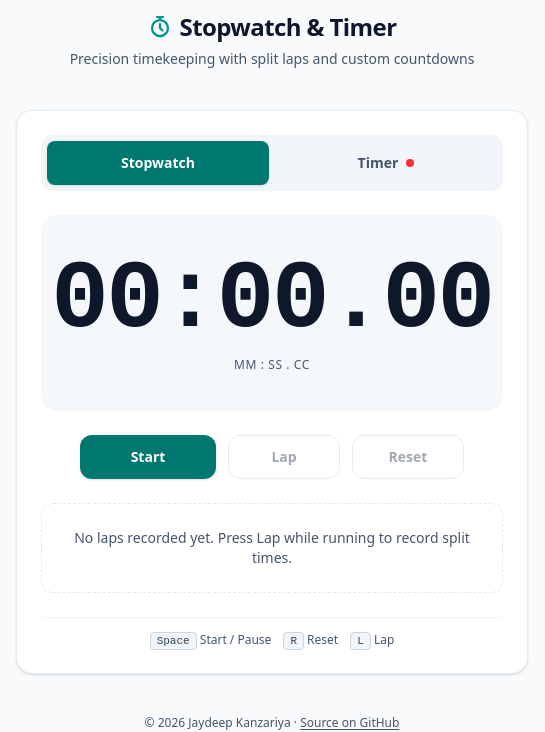
Test: surviving a page reload › shows Time's up, without a beep, if the timer ran out while away
The image size is (545, 732).
Click the tab "Timer".
click(386, 163)  # box [275, 141, 497, 185]
Wait 5000 ms
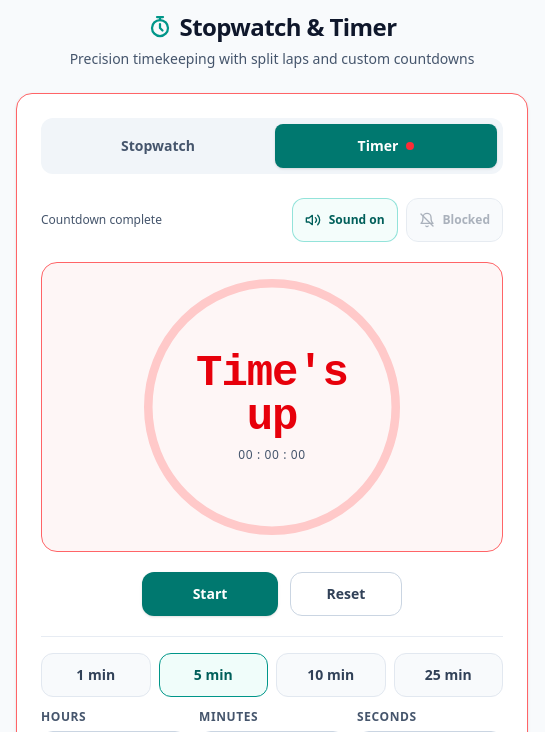
Check: the text "Time's up" is shown, box [196, 348, 348, 442]
